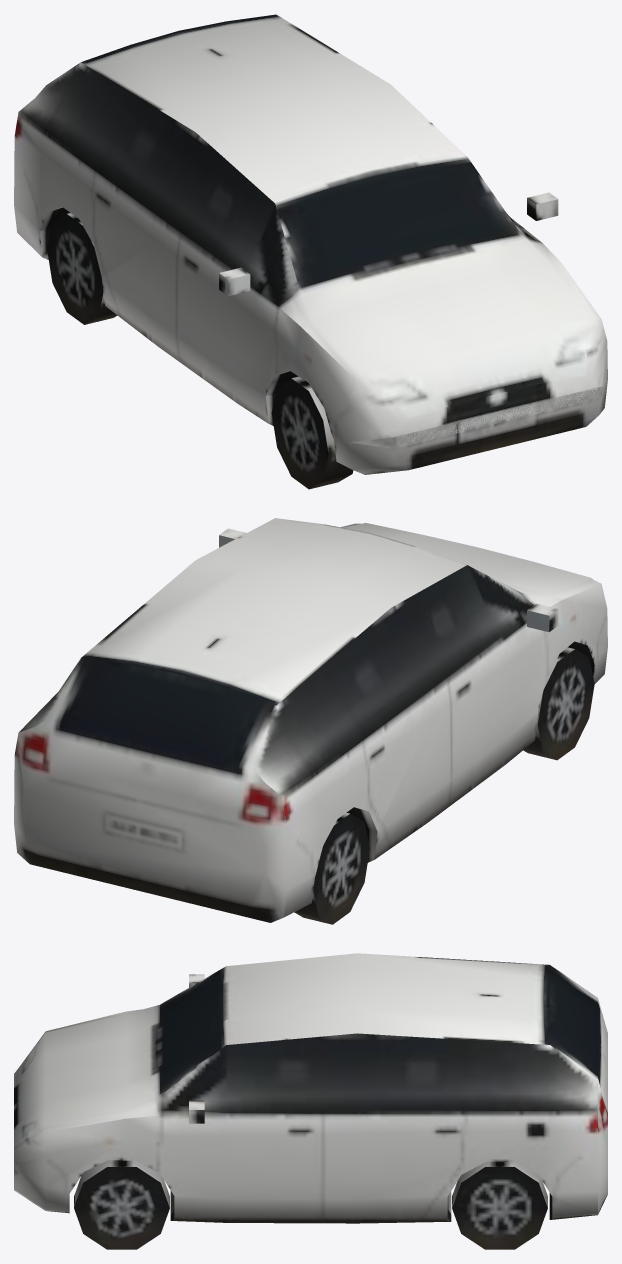
Rendered from car_hatchback_lod.glb.
The picture shows the model from 3 angles, top to bottom: view 1: azimuth 30°, elevation 25°; view 2: azimuth 150°, elevation 25°; view 3: azimuth 270°, elevation 25°; orthographic projection. The views are drawn at different scales.
Visible parts, largest first — view 1: car_hatchback_lod; view 2: car_hatchback_lod; view 3: car_hatchback_lod.
Part boxes in pixels (x1,y1,x2,y2): car_hatchback_lod: (14,14,607,489); car_hatchback_lod: (14,518,607,924); car_hatchback_lod: (14,953,607,1249).
Size of the model in its own units: 2.08 by 1.49 by 3.85.
Materials: 1 (1 with a texture image).
